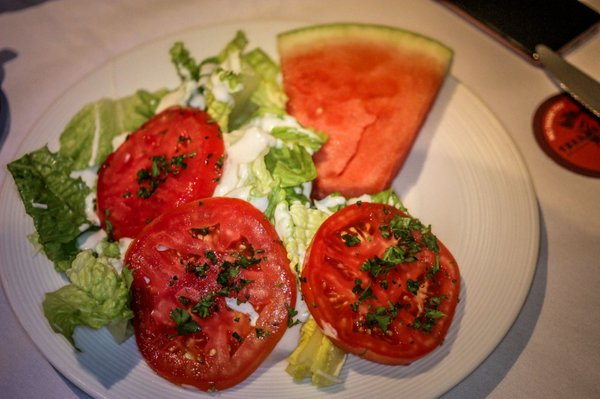curry: (12, 4, 600, 398)
